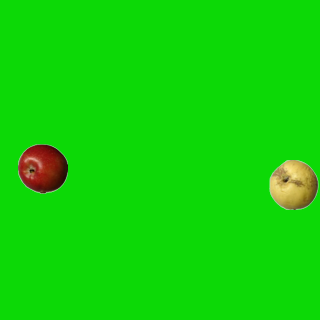Apple Braeburn: (17, 143, 67, 193)
Apple Golden 1: (268, 159, 318, 209)
